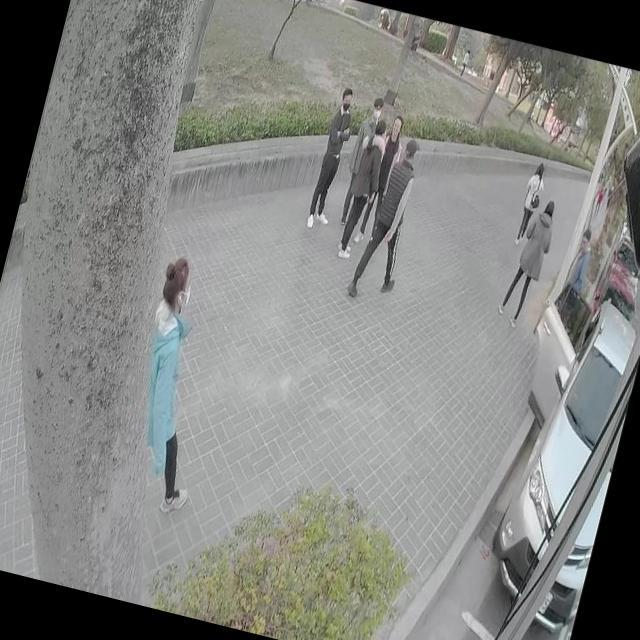person: (108, 253, 242, 515), (344, 131, 428, 304), (494, 192, 562, 329), (332, 116, 392, 262), (304, 86, 359, 232), (337, 92, 387, 224), (364, 112, 407, 217), (511, 158, 548, 246), (566, 226, 596, 290), (454, 44, 472, 78)
